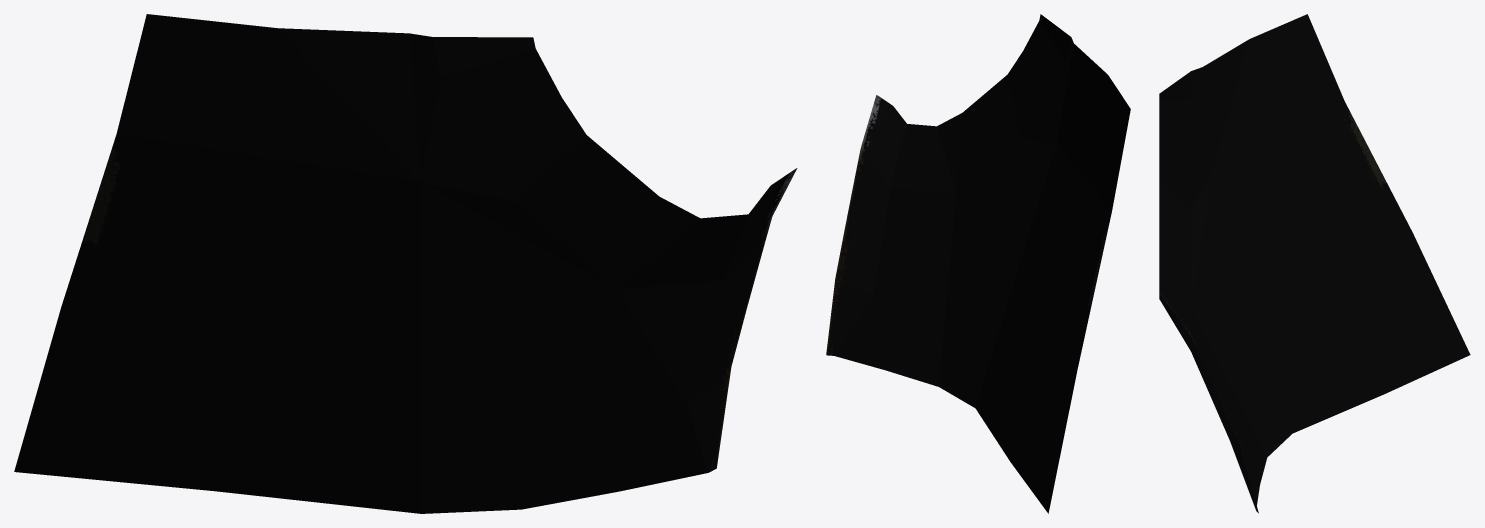
The picture shows the model from 3 angles, left to right: view 1: azimuth 30°, elevation 25°; view 2: azimuth 150°, elevation 25°; view 3: azimuth 270°, elevation 25°; orthographic projection. The views are drawn at different scales.
Bounding box in the file's own units: 1.67 × 1.67 × 1.39.
Materials: 2 (2 with a texture image).
